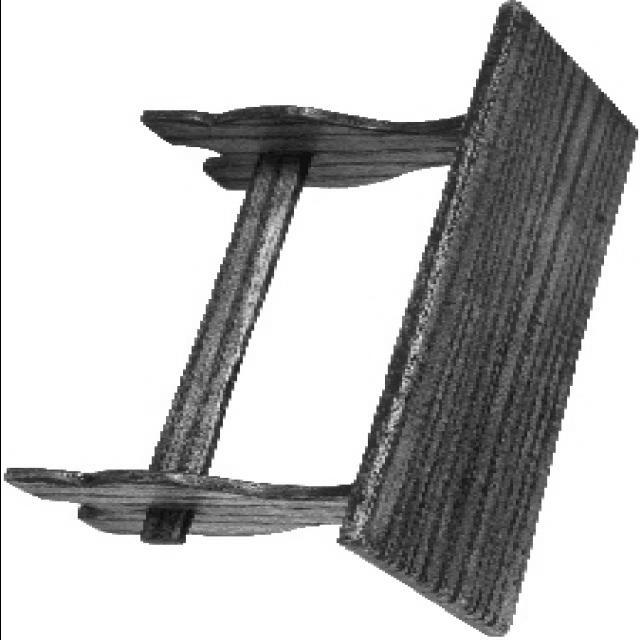table: (8, 1, 638, 636)
